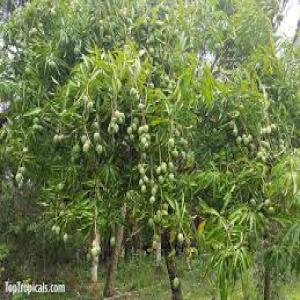Tree: (1, 0, 272, 296)
